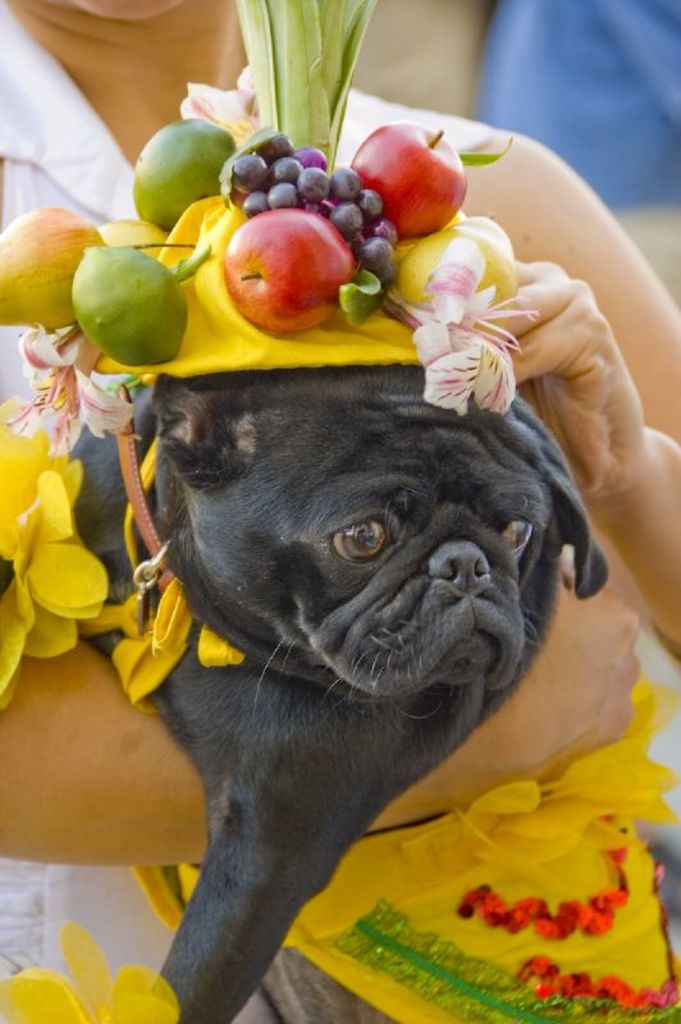Apple: (222, 203, 353, 336), (357, 119, 469, 221)
